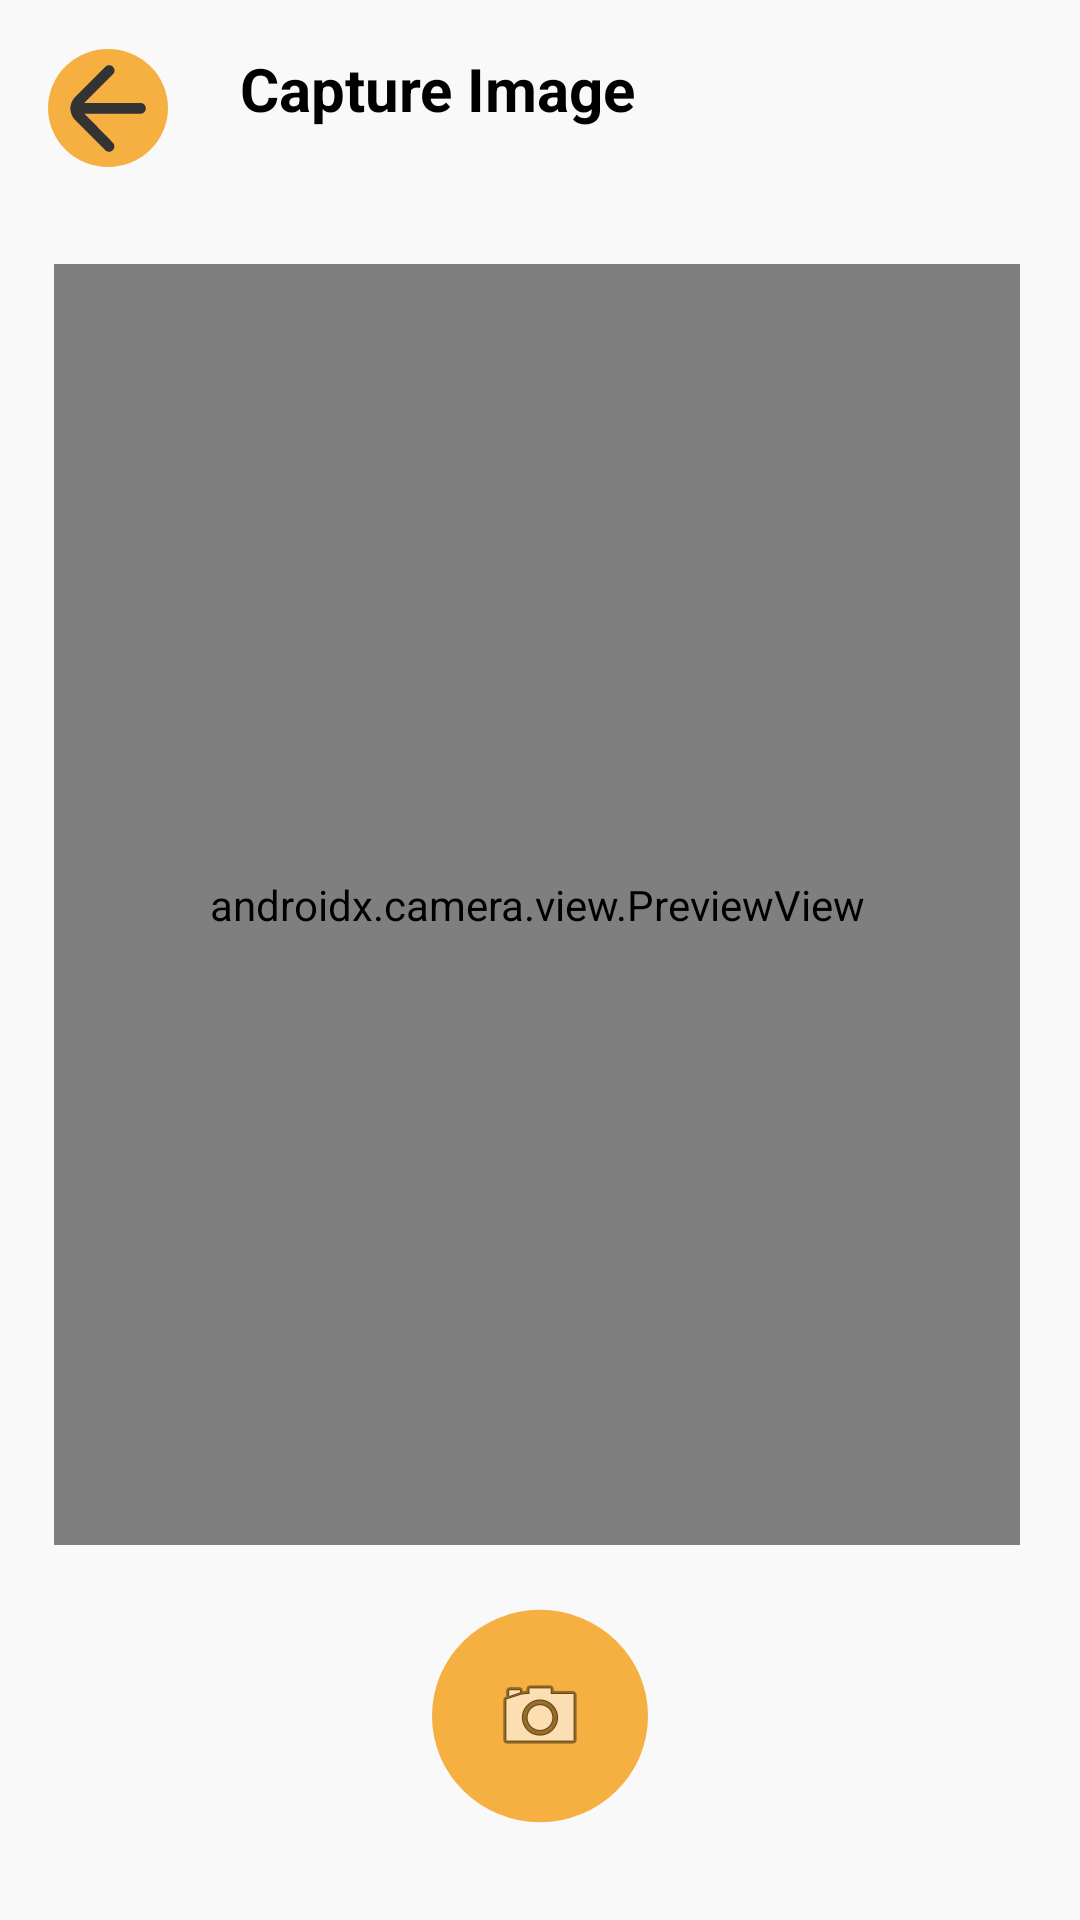

Point at icon controls on the screen. Image size 1080px x 1920px, points as [x,y].
back arrow: [108,108]
